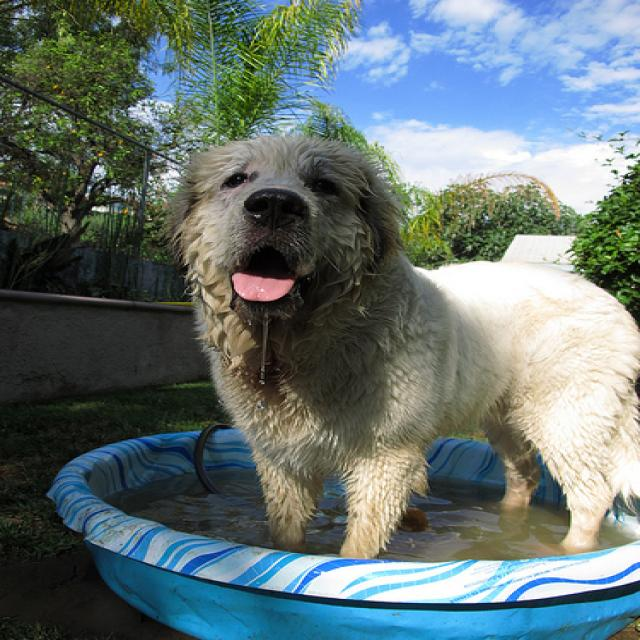dog-great_pyrenees: (154, 131, 637, 570)
